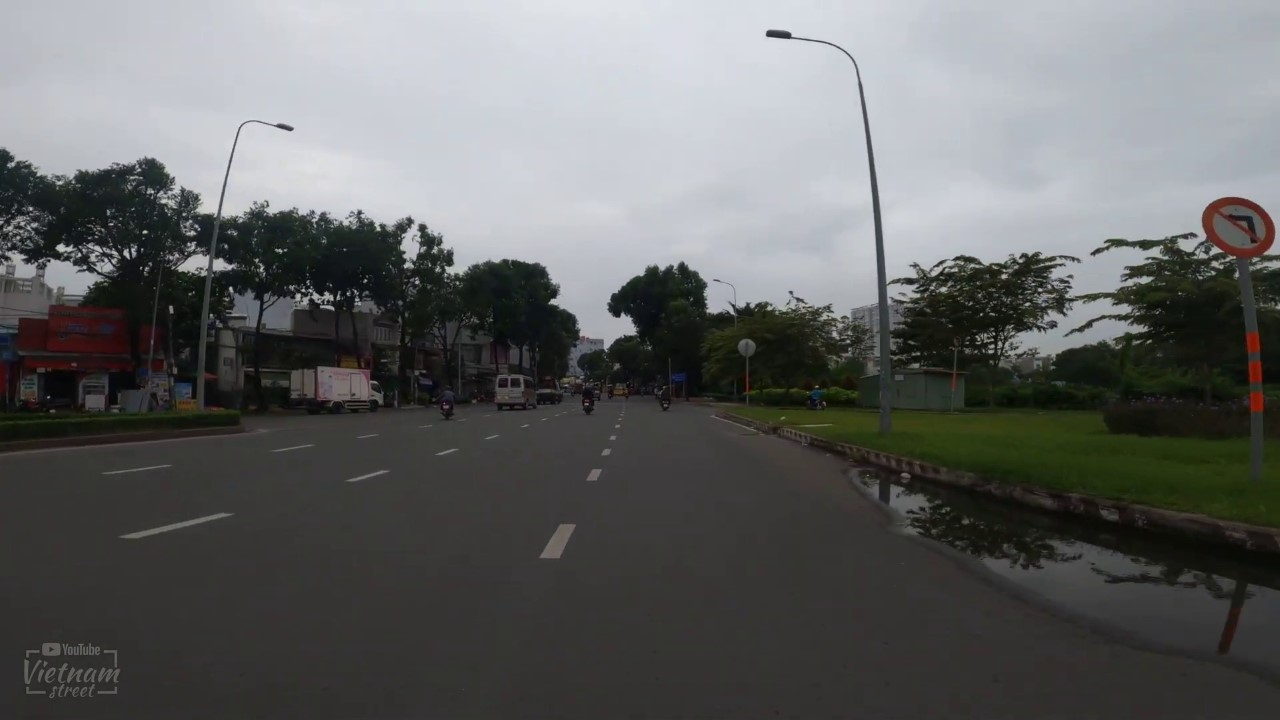cam_re_trai: (1201, 195, 1277, 258)
